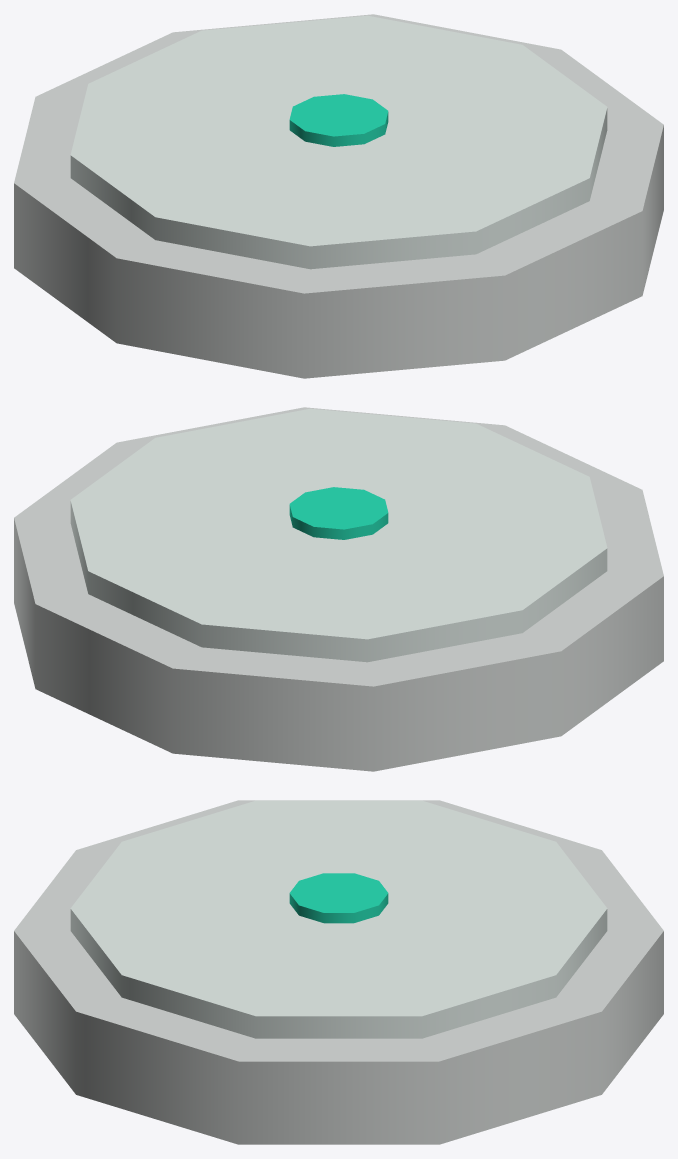
3 views of the same model, one above another, from view 1: azimuth 30°, elevation 25°; view 2: azimuth 150°, elevation 25°; view 3: azimuth 270°, elevation 25° (orthographic). The views are drawn at different scales.
Parts seen in each view (by area): view 1: ap; view 2: ap; view 3: ap.
Boxes of the visible parts, bbox=[...] form: ap: bbox=[14, 14, 663, 378]; ap: bbox=[14, 407, 663, 771]; ap: bbox=[14, 800, 663, 1144].
Size of the model in its own units: 0.4375 by 0.0945 by 0.46.
